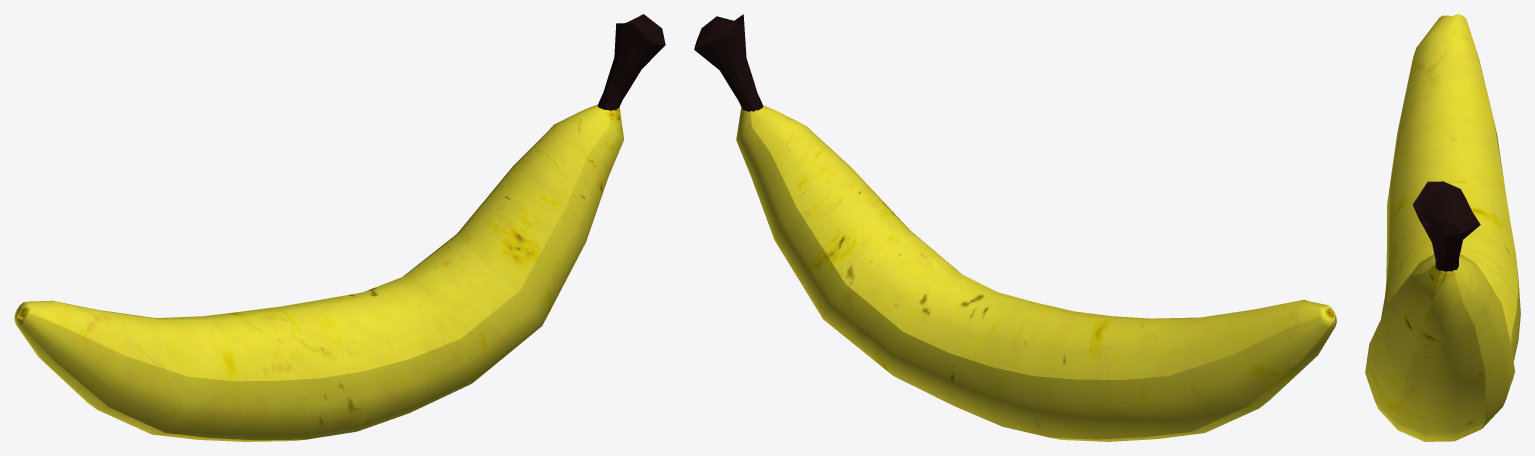
File: Banan.fbx
3 views of the same model, side by side, from view 1: azimuth 30°, elevation 25°; view 2: azimuth 150°, elevation 25°; view 3: azimuth 270°, elevation 25° (orthographic). The views are drawn at different scales.
Visible parts, largest first — view 1: Banana2; view 2: Banana2; view 3: Banana2.
Boxes of the visible parts, bbox=[...] form: Banana2: bbox=[14, 14, 665, 441]; Banana2: bbox=[694, 14, 1336, 441]; Banana2: bbox=[1365, 14, 1520, 441].
Bounding box in the file's own units: 7.65 × 3.86 × 1.42.
Materials: 2 (1 with a texture image).
